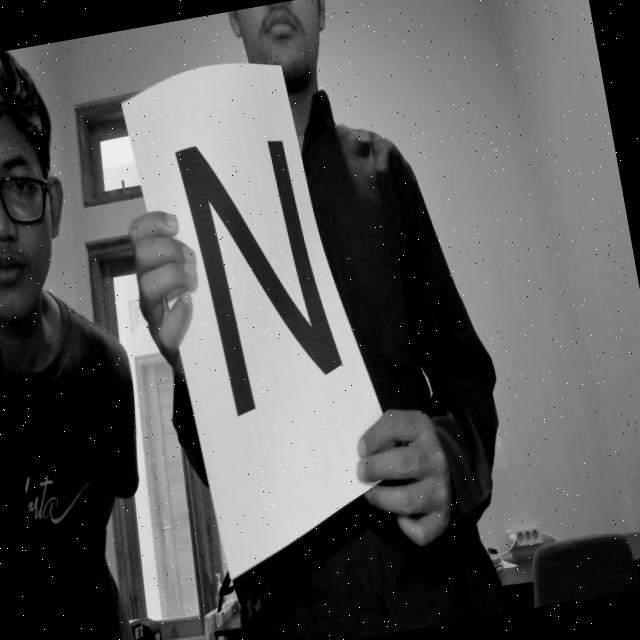n: (138, 81, 372, 450)
